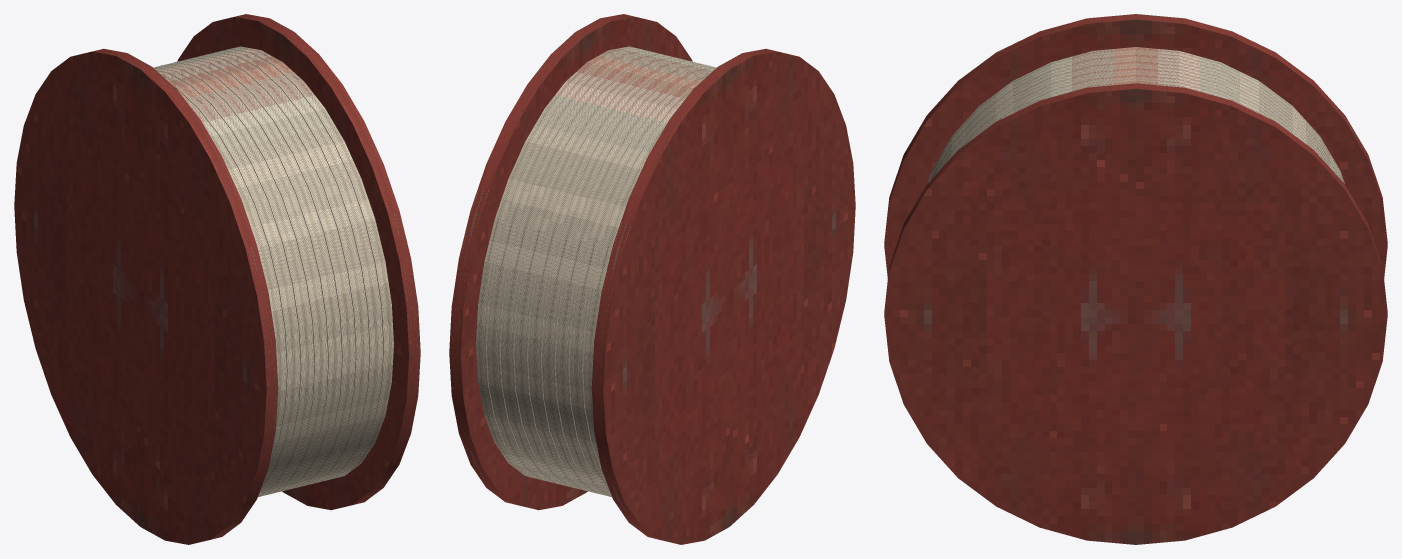
File: rolled-hose.glb
3 views of the same model, side by side, from view 1: azimuth 30°, elevation 25°; view 2: azimuth 150°, elevation 25°; view 3: azimuth 270°, elevation 25° (orthographic).
Visible parts, largest first — view 1: cheek (×2), wrap (×9); view 2: cheek (×2), wrap (×9); view 3: cheek (×2), wrap (×6).
Boxes of the visible parts, <box> form: cheek (×2): <box>14,14,420,544</box>; wrap (×9): <box>153,46,393,496</box>; cheek (×2): <box>449,14,855,544</box>; wrap (×9): <box>476,46,716,496</box>; cheek (×2): <box>884,14,1387,544</box>; wrap (×6): <box>927,47,1344,183</box>.
Bounding box in the file's own units: 0.1692 × 0.48 × 0.48.
2 materials, 2 textured.
